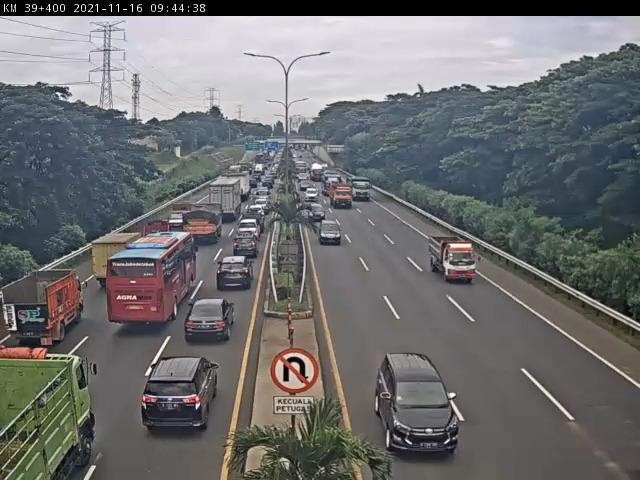bus: (109, 232, 198, 324)
car: (375, 351, 460, 455), (141, 358, 218, 432), (183, 300, 236, 343), (218, 256, 257, 292), (317, 220, 343, 247), (234, 238, 257, 261), (241, 216, 263, 239), (246, 204, 265, 219)
truck: (1, 345, 97, 480), (4, 267, 86, 341), (86, 237, 138, 289), (431, 236, 479, 283), (181, 208, 222, 248), (208, 183, 243, 224), (163, 207, 193, 236), (138, 220, 168, 248)
